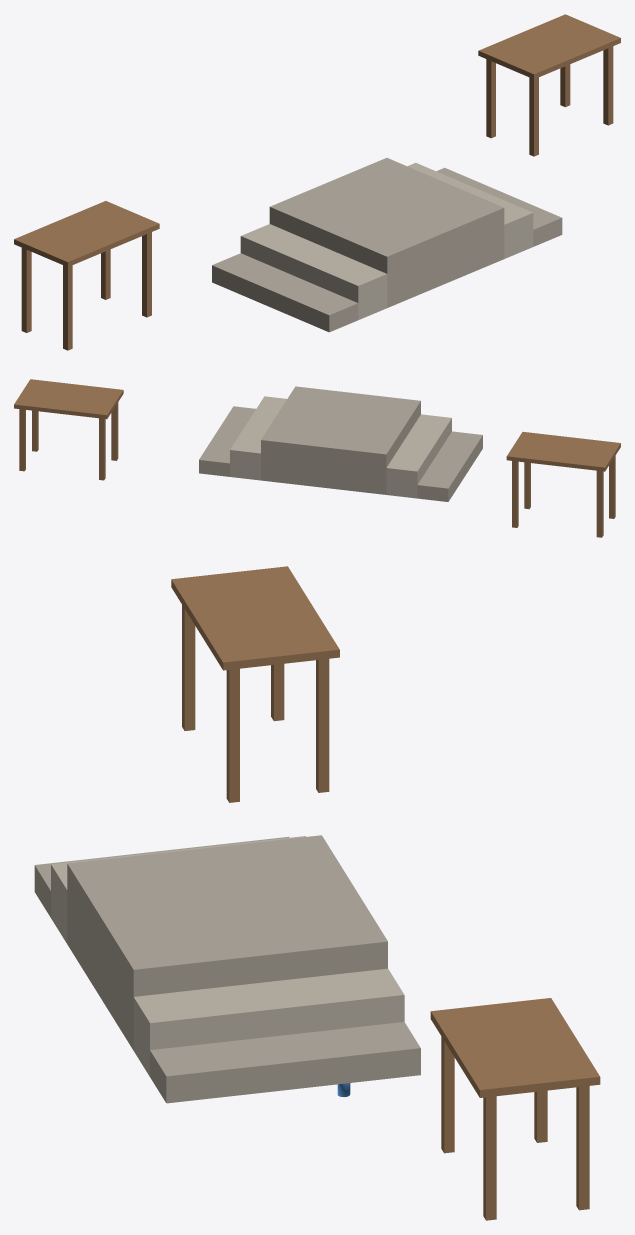
The model's file is g1_08_stairs_carry_props.glb.
3 renders of one model, top to bottom at view 1: azimuth 30°, elevation 25°; view 2: azimuth 150°, elevation 25°; view 3: azimuth 270°, elevation 25°, orthographic. The views are drawn at different scales.
Parts seen in each view (by area): view 1: s012, s013, s014, s005, s000, s011, s010, s009, s001, s007, s006, s002 (+2 smaller); view 2: s012, s013, s005, s000, s014, s011, s010, s009, s008, s003, s004, s002 (+3 smaller); view 3: s012, s011, s010, s005, s000, s008, s006, s001, s003, s007, s013, s002 (+1 smaller).
Part boxes in pixels (x1,y1,x2,y2): s012: [269, 158, 504, 307]; s013: [240, 224, 387, 319]; s014: [212, 253, 358, 332]; s005: [14, 201, 159, 266]; s000: [478, 14, 620, 79]; s011: [407, 163, 533, 258]; s010: [436, 167, 562, 246]; s009: [21, 248, 31, 332]; s001: [603, 46, 613, 125]; s007: [63, 265, 72, 350]; s006: [142, 232, 151, 317]; s002: [529, 77, 538, 156]; s012: [261, 386, 420, 494]; s013: [386, 414, 451, 498]; s005: [506, 432, 620, 471]; s000: [14, 379, 123, 419]; s014: [417, 431, 482, 501]; s011: [230, 396, 286, 480]; s010: [199, 406, 255, 476]; s009: [596, 470, 603, 537]; s008: [512, 461, 518, 527]; s003: [19, 409, 25, 471]; s004: [99, 418, 105, 480]; s002: [111, 402, 118, 460]; s012: [67, 835, 387, 1050]; s011: [133, 968, 404, 1076]; s010: [150, 1022, 420, 1103]; s005: [171, 566, 339, 670]; s000: [430, 998, 600, 1097]; s008: [316, 658, 329, 792]; s006: [226, 668, 239, 802]; s001: [483, 1096, 496, 1220]; s003: [576, 1086, 589, 1210]; s007: [182, 605, 195, 730]; s013: [51, 836, 305, 943]; s002: [441, 1036, 454, 1153].
Bounding box in the file's own units: 5.57 × 0.8218 × 2.59.
